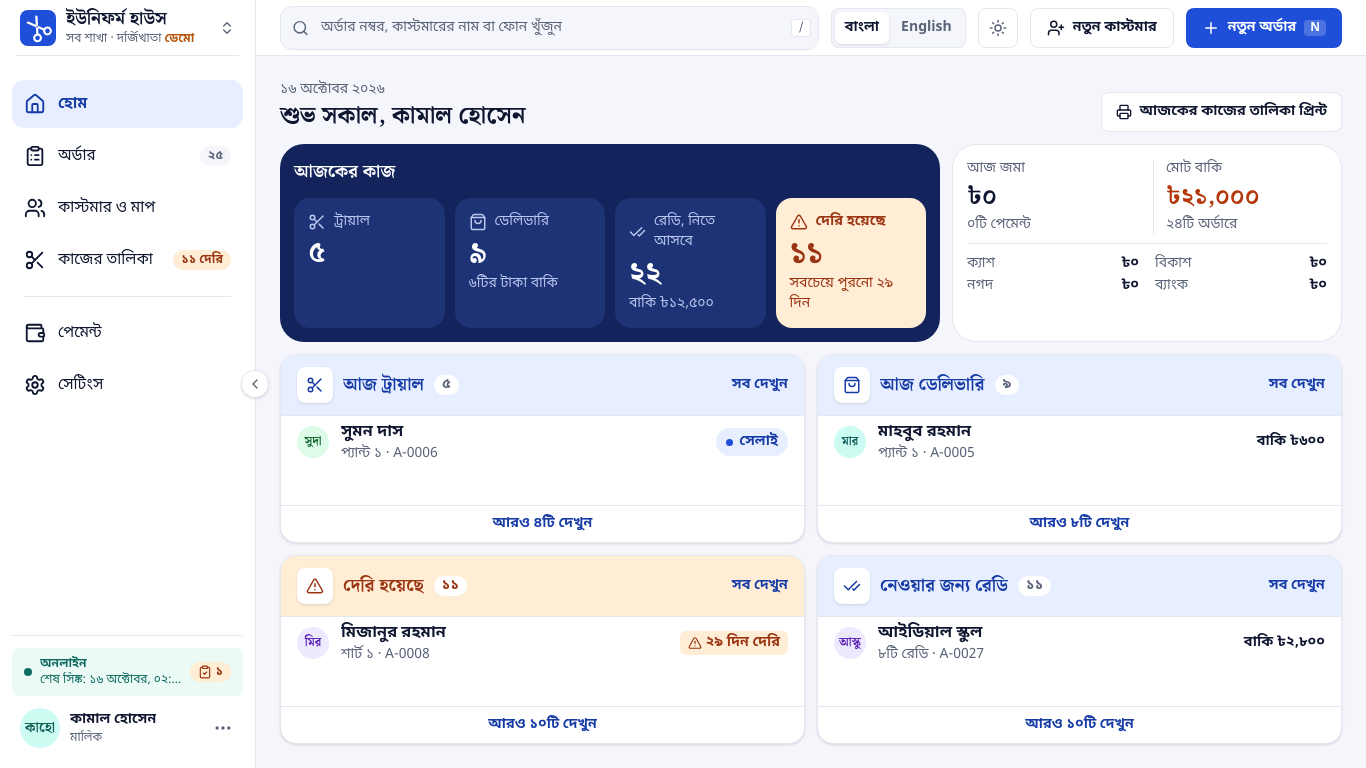
Test: Desktop sidebar and top bar › switches the branch scope from the branch popover and closes it when focus leaves
Step 1. Click the button "ইউনিফর্ম হাউস সব শাখা · দর্জিখাতা ডেমো" → [128, 28], box [16,4,239,51]
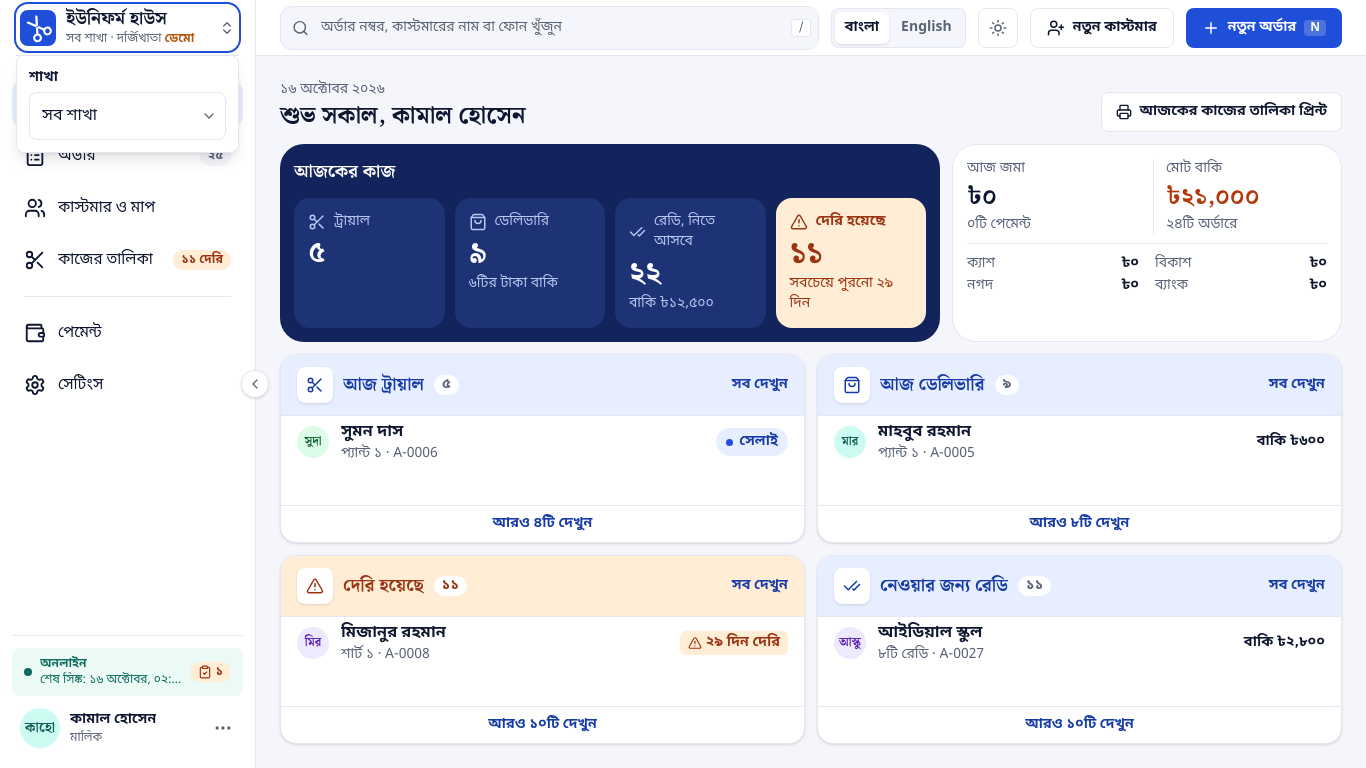
Step 2. Click the dropdown labelled "শাখা" → [128, 116], box [29,92,226,140]
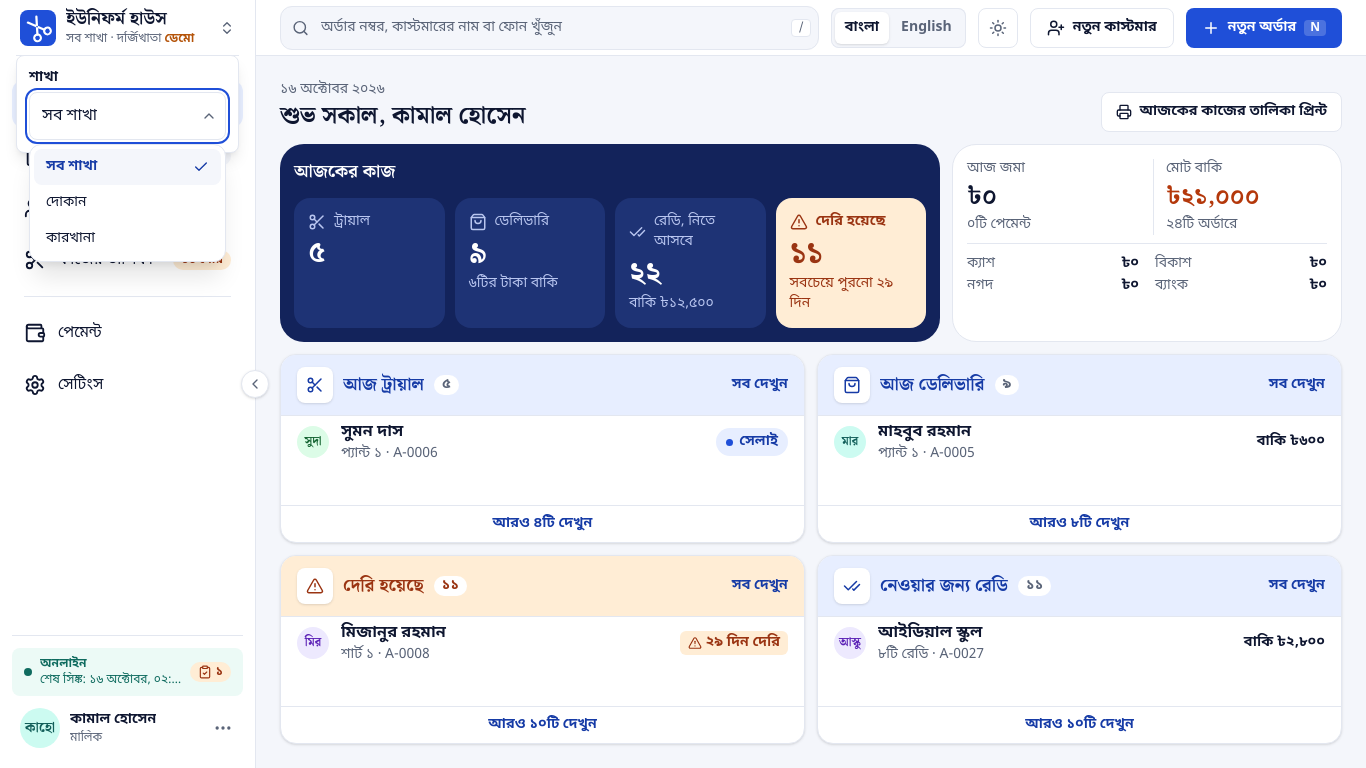
Step 3. Click the option "দোকান" → [66, 202], box [46,193,86,212]
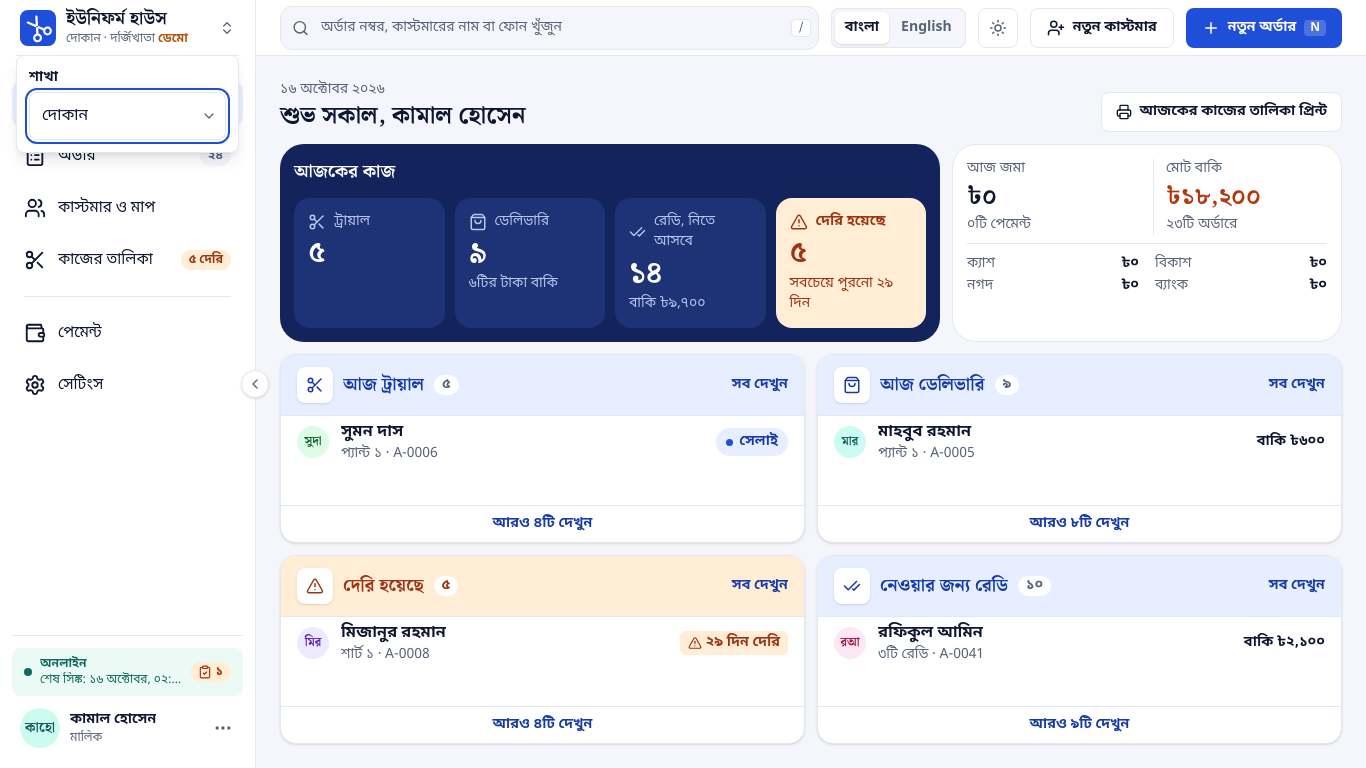
Result: the dropdown named "শাখা" reads "দোকান" at [29,92,226,140]
Result: the button named "সব শাখা" shows "দোকান" at [16,4,239,51]
Step 4. Press Escape
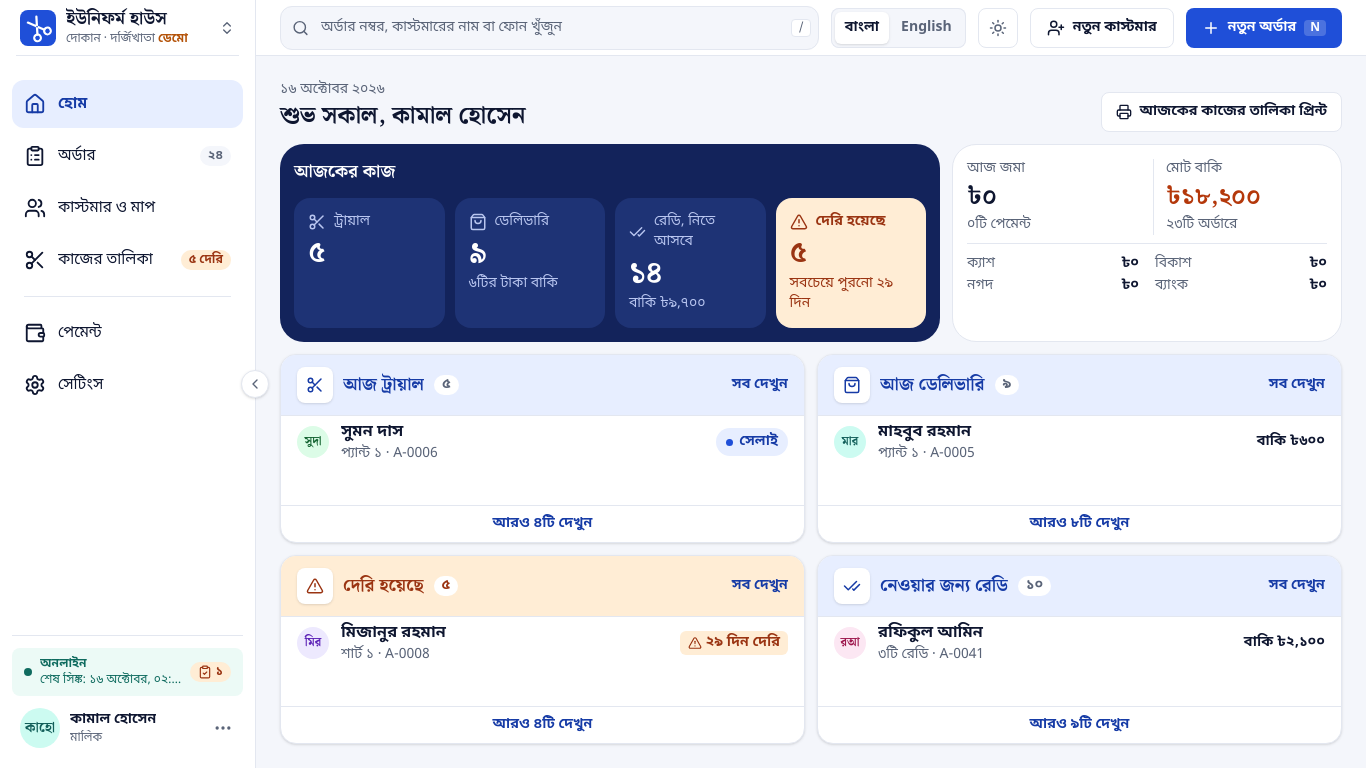
Result: the label "শাখা" is gone
